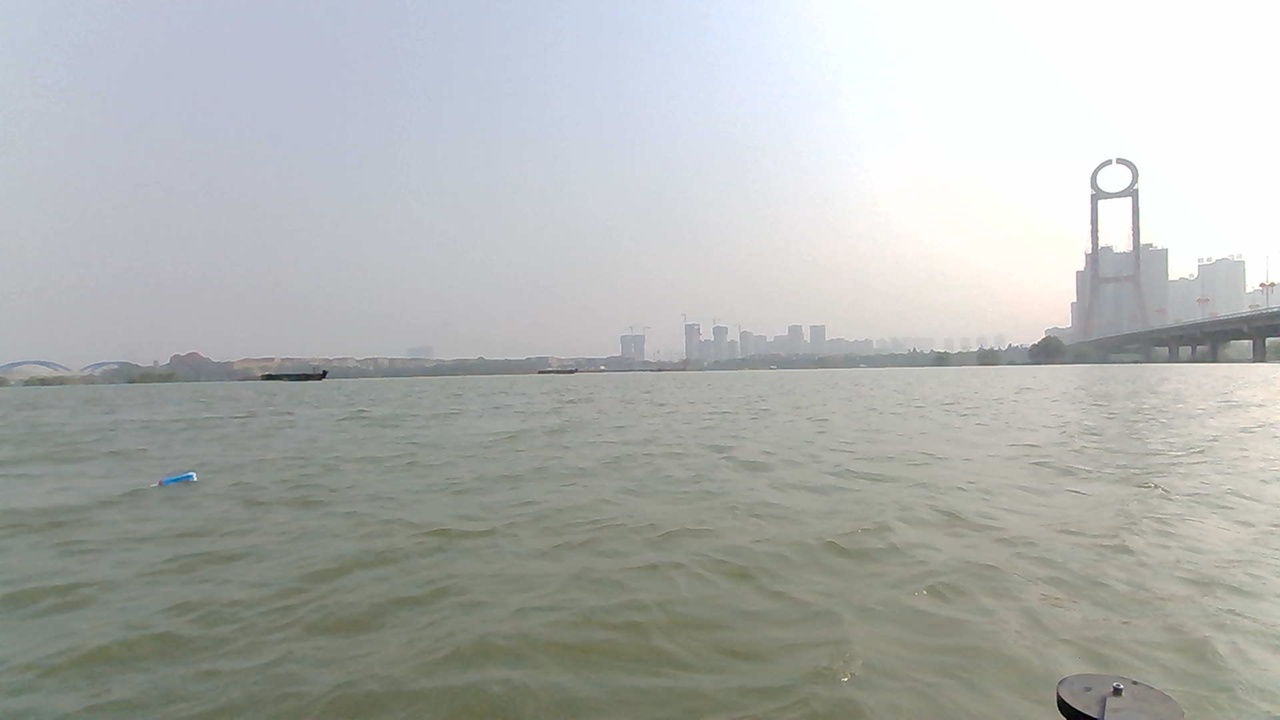bottle: (149, 468, 209, 497)
